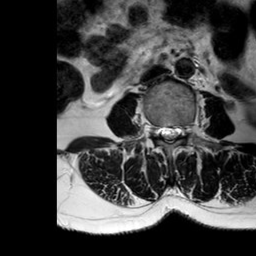CCS_stenosis: (165, 117, 172, 150)
LFS_normal: (180, 116, 189, 143)
LLS_normal: (172, 116, 180, 145)
RFS_normal: (148, 115, 157, 143)
RLS_normal: (157, 117, 165, 145)
